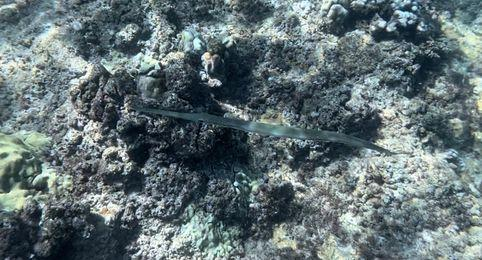Fistularia commersonii: (125, 97, 407, 158)
